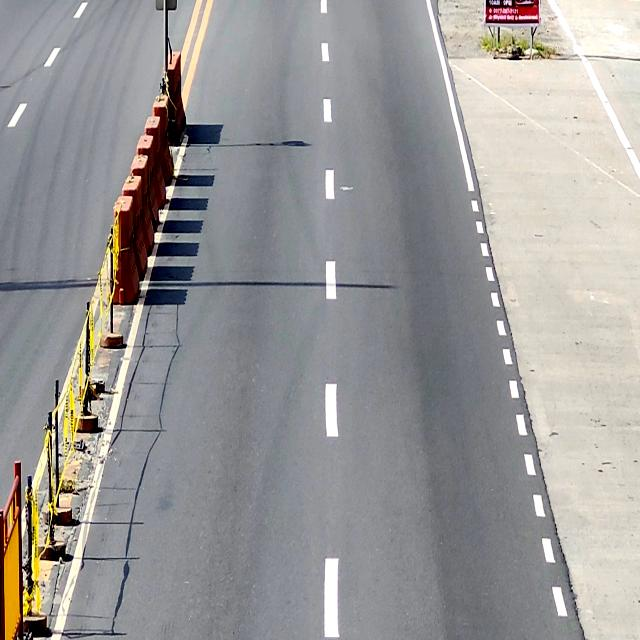E-bike: (11, 1, 584, 637)
